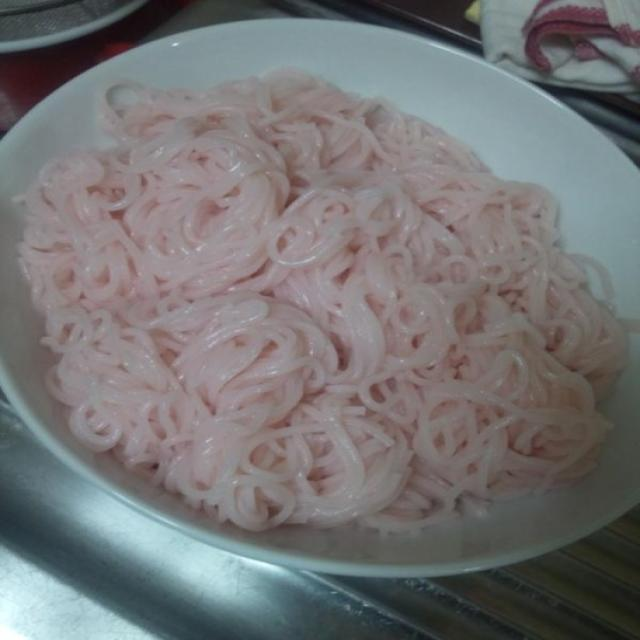面条主食: (9, 16, 632, 594)
